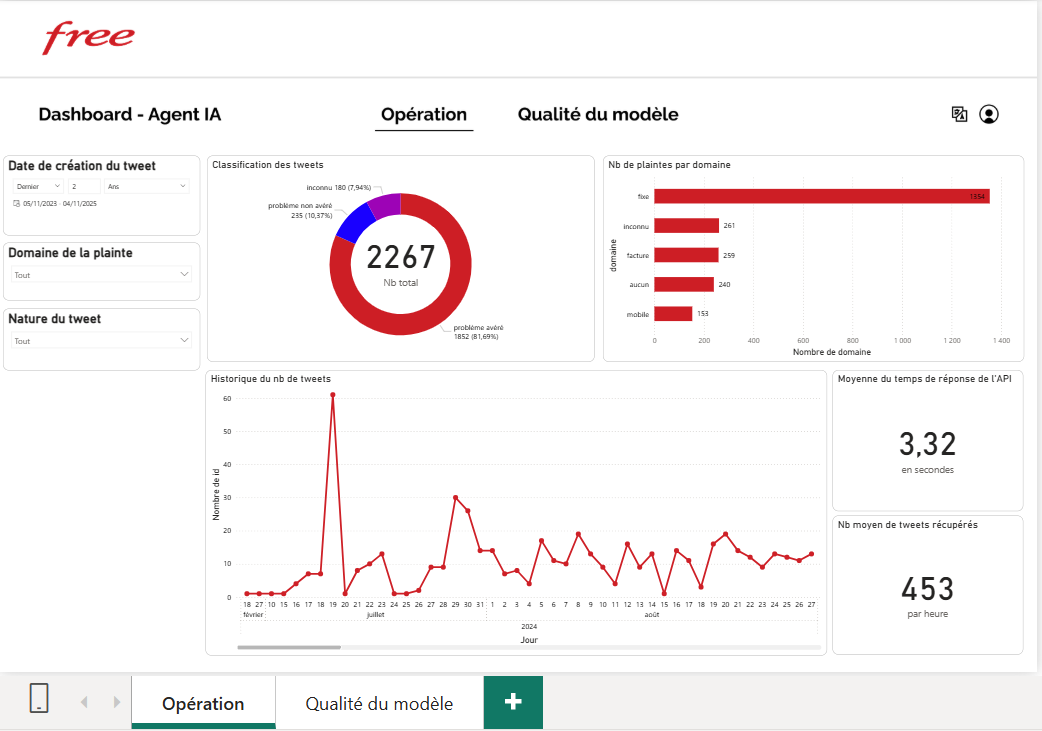

The dashboard page shown, as its layout file describes it:
{"tool":"powerbi","page":{"name":"Opération","canvas":[1728,1117],"ordinal":0},"visuals":[{"type":"donutChart","title":"Classification des tweets","fields":{"Category":["tweets_classified_clean_2.label"],"Y":["CountNonNull(tweets_classified_clean_2.label)"]},"box":[346.7,351.7,645,305],"z":0},{"type":"card","fields":{"Values":["CountNonNull(tweets_classified_clean_2.id)"]},"box":[596,452,146,104],"z":1000},{"type":"clusteredBarChart","title":"Nb de plaintes par domaine","fields":{"Category":["tweets_classified_clean_2.domaine"],"Y":["CountNonNull(tweets_classified_clean_2.domaine)"]},"box":[1001.7,351.7,703.3,305],"z":2000},{"type":"lineChart","title":"Historique du nb de tweets","fields":{"Y":["CountNonNull(tweets_classified_clean_2.id)"],"Category":["tweets_classified_clean_2.created_at.Variation.Hiérarchie de dates.Année","tweets_classified_clean_2.created_at.Variation.Hiérarchie de dates.Mois","tweets_classified_clean_2.created_at.Variation.Hiérarchie de dates.Jour","tweets_clean_final.JourHeure"]},"box":[346.7,668.3,1031.7,421.7],"z":3000},{"type":"slicer","title":"Date de création du tweet","fields":{"Values":["tweets_classified_clean_2.created_at"]},"box":[8.7,350.9,328.3,133.3],"z":4000},{"type":"slicer","title":"Domaine de la plainte","fields":{"Values":["tweets_classified_clean_2.domaine"]},"box":[8.7,495.9,328.3,96.7],"z":5000},{"type":"slicer","title":"Nature du tweet","fields":{"Values":["tweets_classified_clean_2.label"]},"box":[8.7,604.2,328.3,103.3],"z":6000},{"type":"actionButton","box":[742.5,245,262.5,60],"z":7000},{"type":"actionButton","box":[527.5,245,177.5,60],"z":8000},{"type":"actionButton","box":[1043.8,245,155,60],"z":9000},{"type":"textbox","title":"Durée du traitemment d''un tweet (date de création - date de résolution)","box":[1388.3,668.3,316.7,211.7],"z":10000},{"type":"textbox","title":"Indice de satisfaction du client","box":[1388,896,324,194],"z":11000}]}

Visuals, with their boxes on the page's 1728x1117 design canvas (x1, y1, x2, y2). These are canvas units, not pixel positions in the 1042x731 screenshot, which may show the page scaled, cropped or inside an application window:
"Classification des tweets" donutChart: <bbox>347, 352, 992, 657</bbox>
card - CountNonNull(tweets_classified_clean_2.id): <bbox>596, 452, 742, 556</bbox>
"Nb de plaintes par domaine" clusteredBarChart: <bbox>1002, 352, 1705, 657</bbox>
"Historique du nb de tweets" lineChart: <bbox>347, 668, 1378, 1090</bbox>
"Date de création du tweet" slicer: <bbox>9, 351, 337, 484</bbox>
"Domaine de la plainte" slicer: <bbox>9, 496, 337, 593</bbox>
"Nature du tweet" slicer: <bbox>9, 604, 337, 708</bbox>
actionButton: <bbox>742, 245, 1005, 305</bbox>
actionButton: <bbox>528, 245, 705, 305</bbox>
actionButton: <bbox>1044, 245, 1199, 305</bbox>
"Durée du traitemment d''un tweet (date de création - date de résolution)" textbox: <bbox>1388, 668, 1705, 880</bbox>
"Indice de satisfaction du client" textbox: <bbox>1388, 896, 1712, 1090</bbox>
